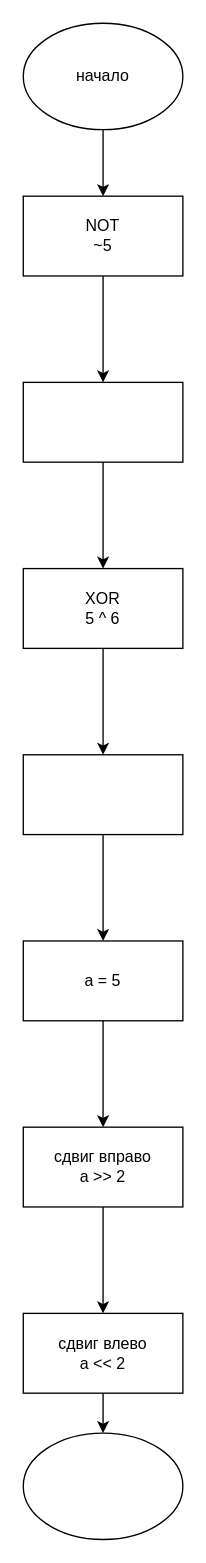
Some shapes in this 206 by 1563 pixel diagram are drawn without their labels. The shapes that lost their labels are listed below. From the top down, each one's centre as x and y in pixels, then its label:
At point (102, 421): "AND 5 & 6".
At point (102, 794): "OR 5 | 6".
At point (102, 1485): "конец".
